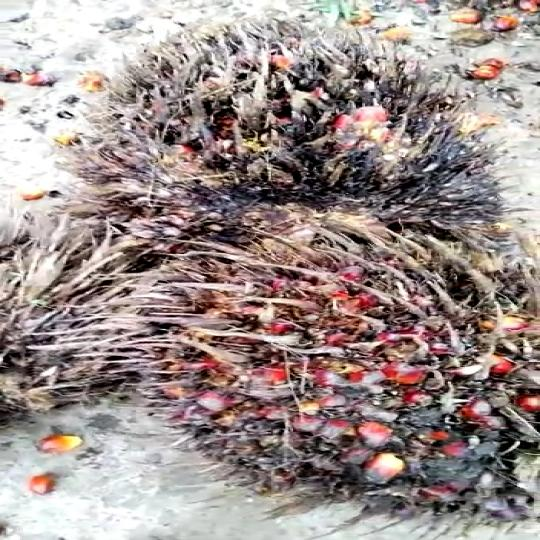terlalu masak: (128, 234, 537, 524), (77, 12, 489, 246)
